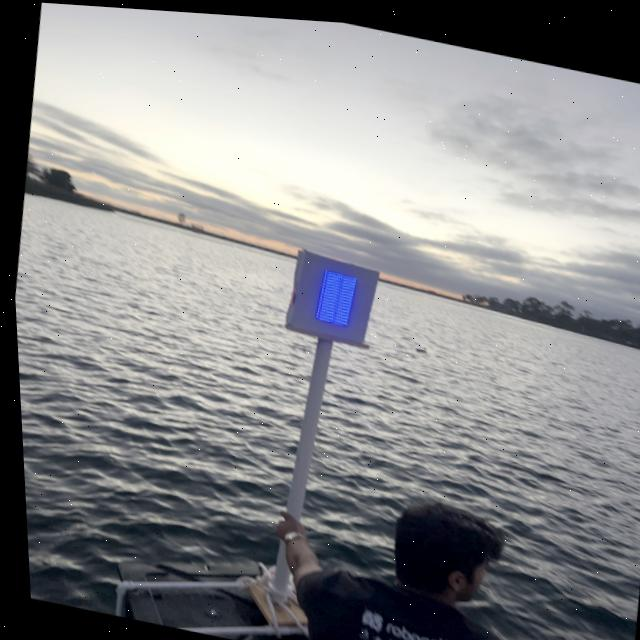led: (288, 246, 375, 339)
